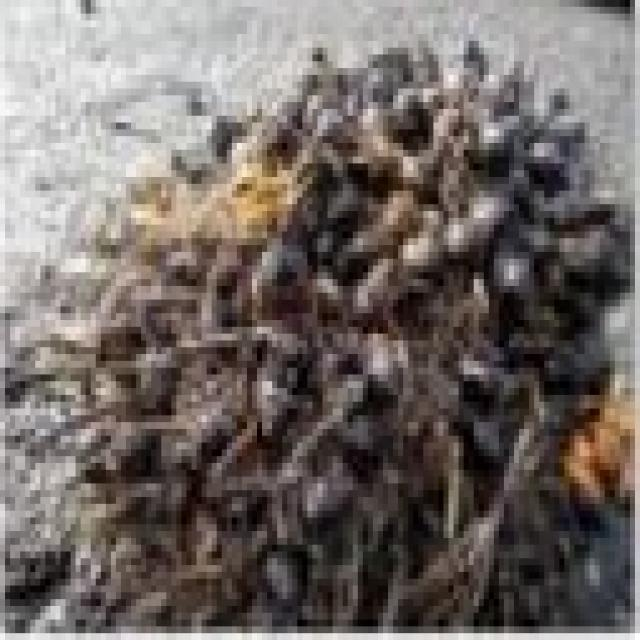FFB: (65, 61, 640, 633)
